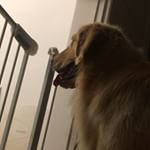puppy: (50, 19, 147, 148)
